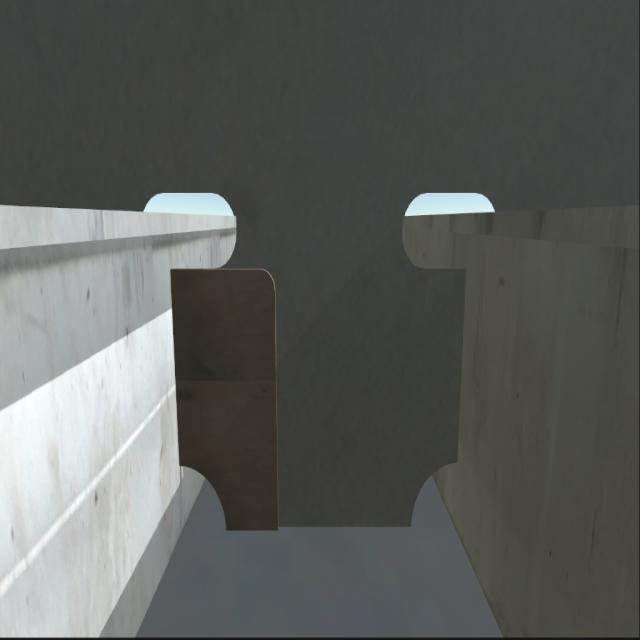fillet_hole: (178, 458, 228, 530), (406, 462, 456, 528)
fillet_yong_jeop_jang: (217, 515, 421, 533)
longi_yong_jeop_jang: (167, 262, 190, 471), (448, 268, 470, 466)
plate_CP05: (168, 267, 277, 538)
